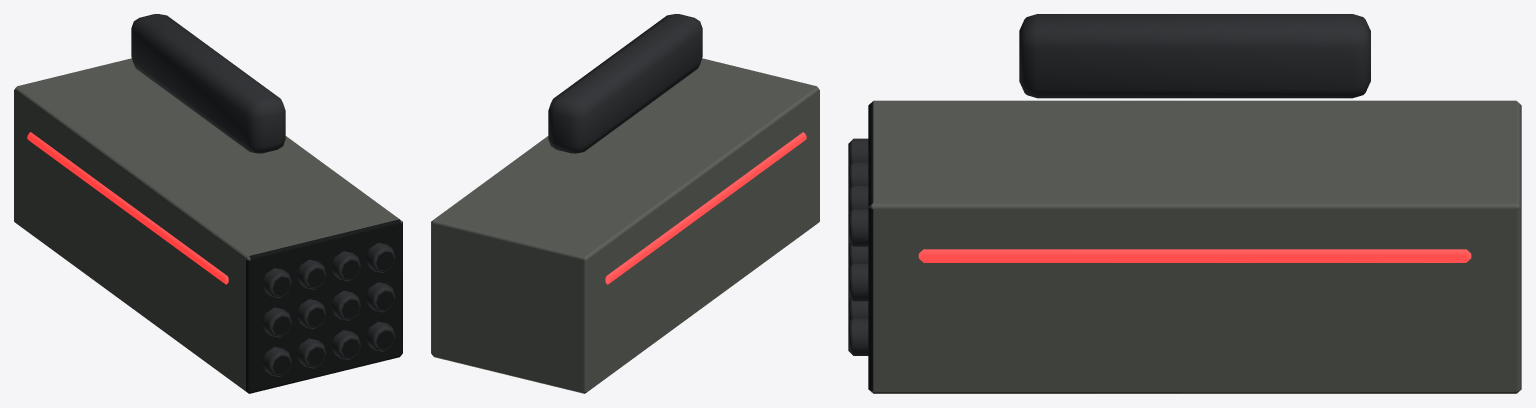
File: Pod_Swarm.fbx
3 views of the same model, side by side, from view 1: azimuth 30°, elevation 25°; view 2: azimuth 150°, elevation 25°; view 3: azimuth 270°, elevation 25° (orthographic). The views are drawn at different scales.
Visible parts, largest first — view 1: Pod_Swarm; view 2: Pod_Swarm; view 3: Pod_Swarm.
Part boxes in pixels (x1,y1,x2,y2): Pod_Swarm: (14,14,402,393); Pod_Swarm: (431,14,819,393); Pod_Swarm: (848,14,1521,393).
Bounding box in the file's own units: 0.53 × 0.71 × 1.34.
